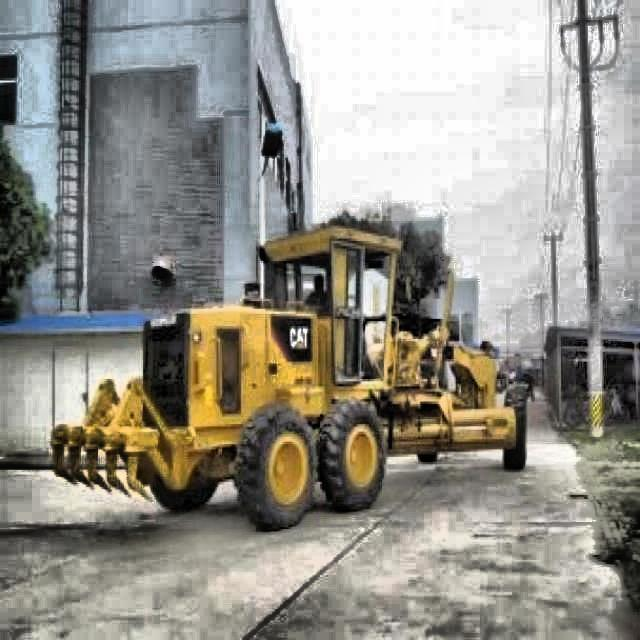bull_dozer/loader/grader: (48, 218, 530, 536)
person: (304, 272, 330, 308)
